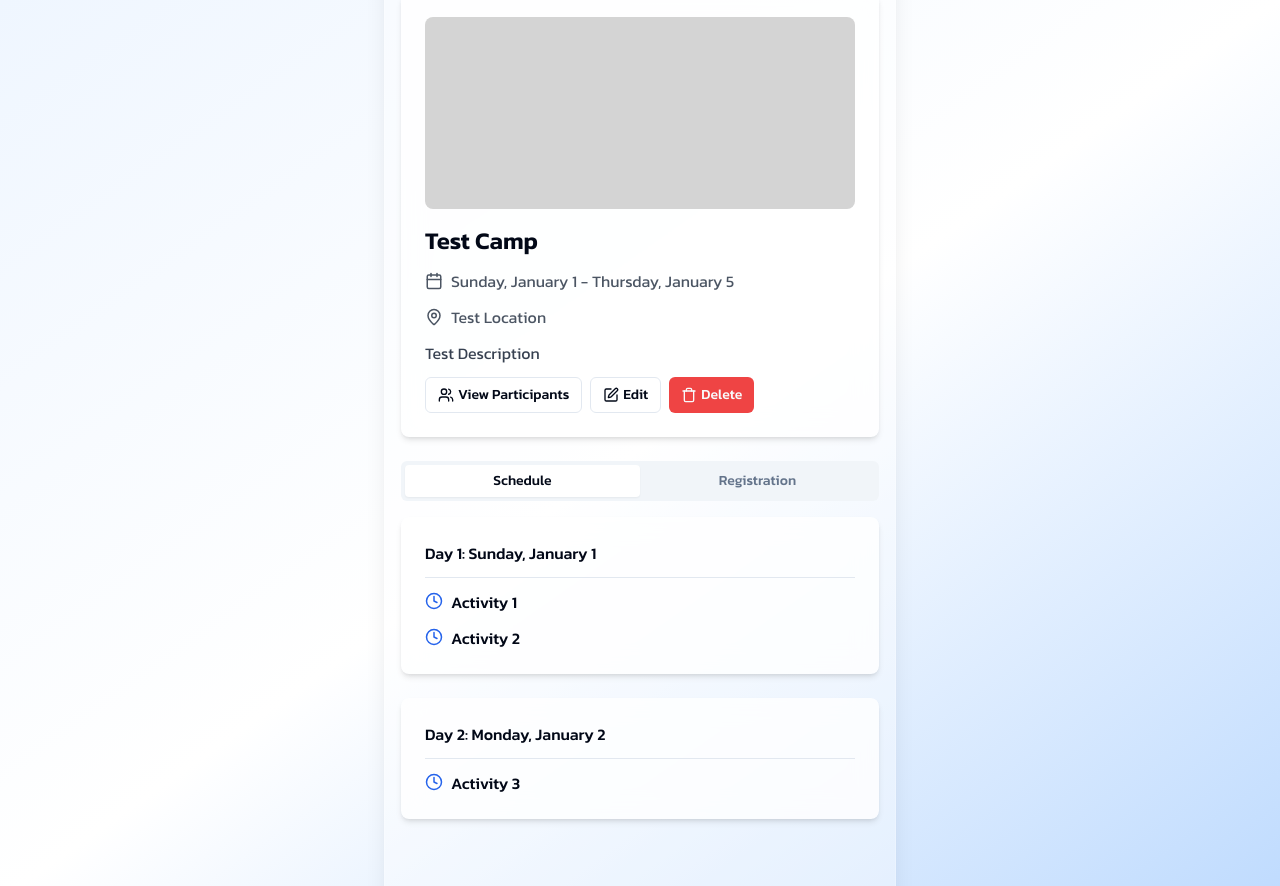
CampDetail Page › shows registration tab with day selection
(page scrolled)
Expected: the text "Test Description" is shown, top-left (425, 341), bottom-right (540, 365)
Find and click the Registration tab
Click the tab "Registration": (758, 481) top-left (640, 465), bottom-right (875, 497)
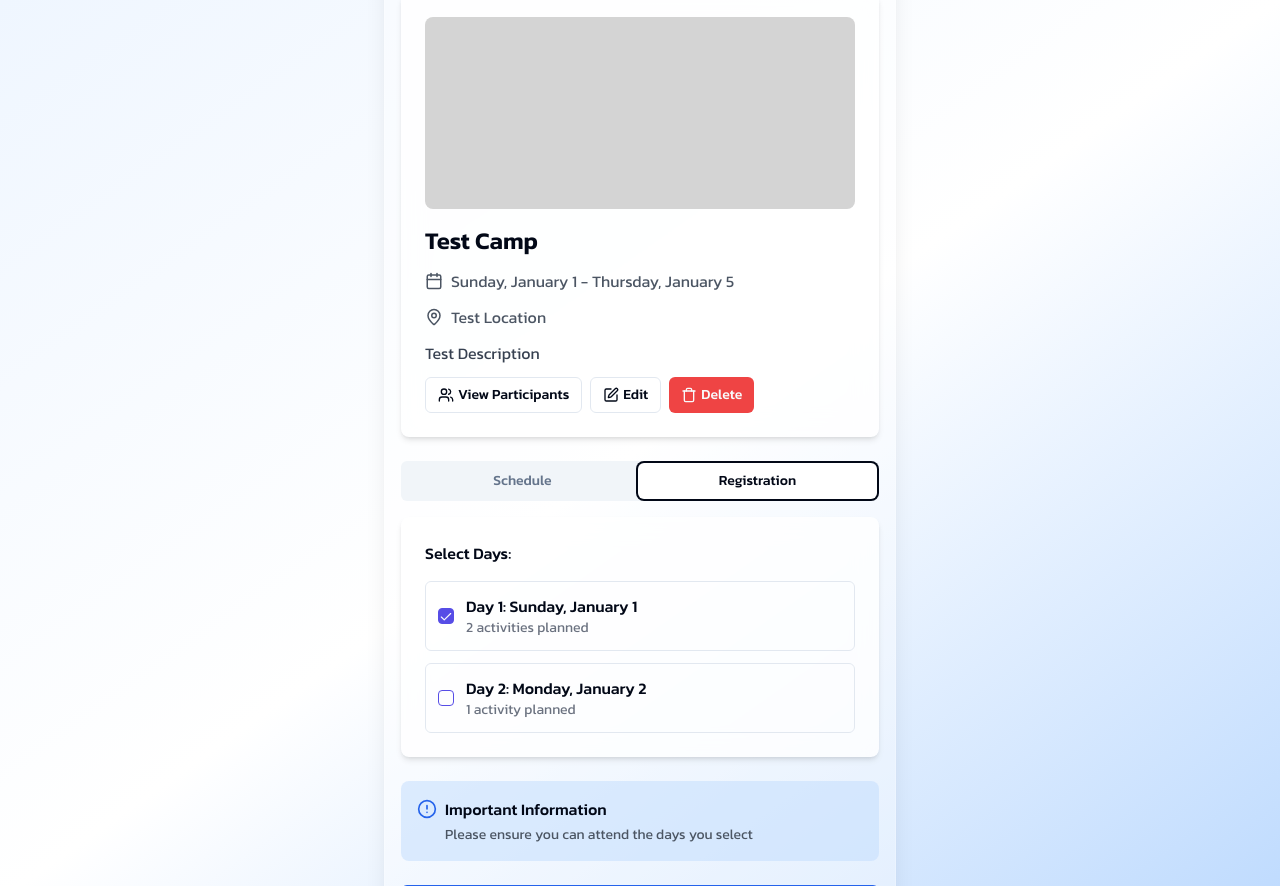
Result: the checkbox next to "Day 1" is shown at top-left (438, 608), bottom-right (454, 624)
